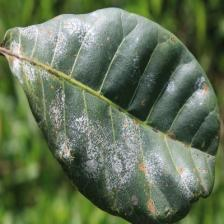red rust: (0, 7, 221, 224)
